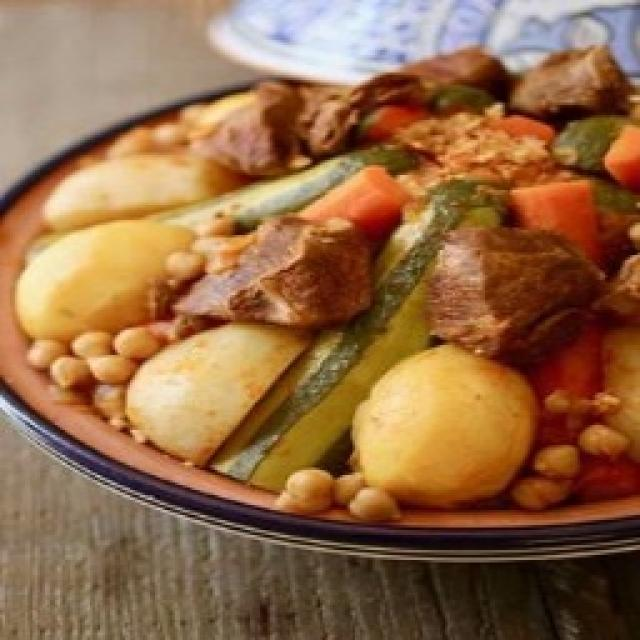Brik: (611, 196, 621, 209)
Couscous: (15, 46, 640, 521)
